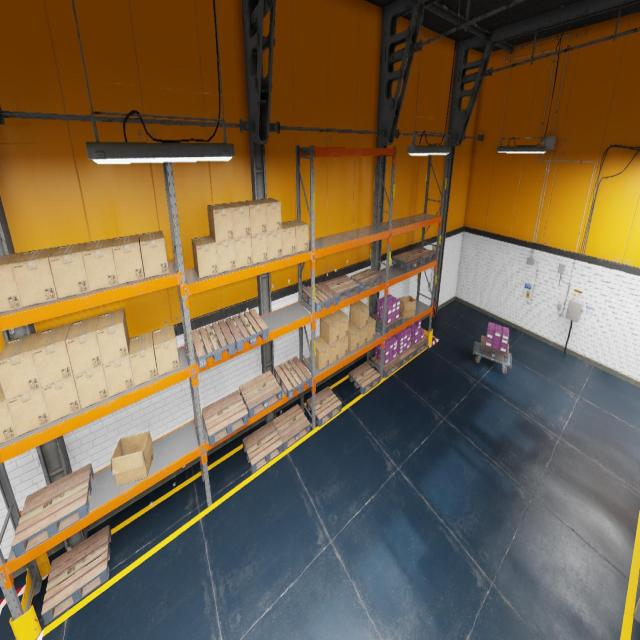box: (0, 331, 41, 401), (11, 247, 58, 307), (31, 323, 73, 388), (49, 242, 90, 299), (111, 431, 153, 486), (66, 315, 102, 376), (6, 388, 50, 436), (82, 238, 118, 291), (96, 308, 129, 365), (41, 376, 81, 422), (103, 344, 134, 397), (112, 234, 144, 285), (129, 332, 158, 386), (74, 366, 109, 409), (152, 324, 180, 376), (139, 230, 169, 278), (0, 252, 23, 312), (192, 235, 218, 278), (0, 382, 17, 444), (207, 204, 234, 242), (225, 201, 251, 239), (242, 200, 267, 235), (258, 198, 281, 232), (286, 220, 309, 252), (216, 240, 236, 274), (310, 336, 329, 370), (320, 313, 339, 345), (234, 236, 252, 268), (349, 300, 368, 328), (331, 309, 348, 340), (251, 233, 268, 264), (321, 336, 338, 364), (282, 222, 296, 256), (349, 321, 368, 346), (267, 230, 282, 260), (398, 296, 416, 318), (348, 321, 359, 352), (367, 315, 375, 342), (339, 336, 348, 359)
pallets: (12, 463, 94, 558), (41, 524, 111, 624), (202, 390, 248, 446), (242, 421, 283, 473), (192, 320, 235, 369), (239, 370, 282, 418), (226, 309, 268, 351), (272, 404, 310, 450), (274, 356, 312, 399), (306, 386, 342, 427), (302, 282, 338, 312), (349, 362, 380, 394), (323, 275, 360, 301), (479, 336, 509, 364), (350, 268, 382, 292), (370, 356, 400, 378), (392, 252, 422, 271), (372, 314, 402, 332), (407, 247, 436, 264), (395, 346, 415, 366), (410, 337, 428, 355)
